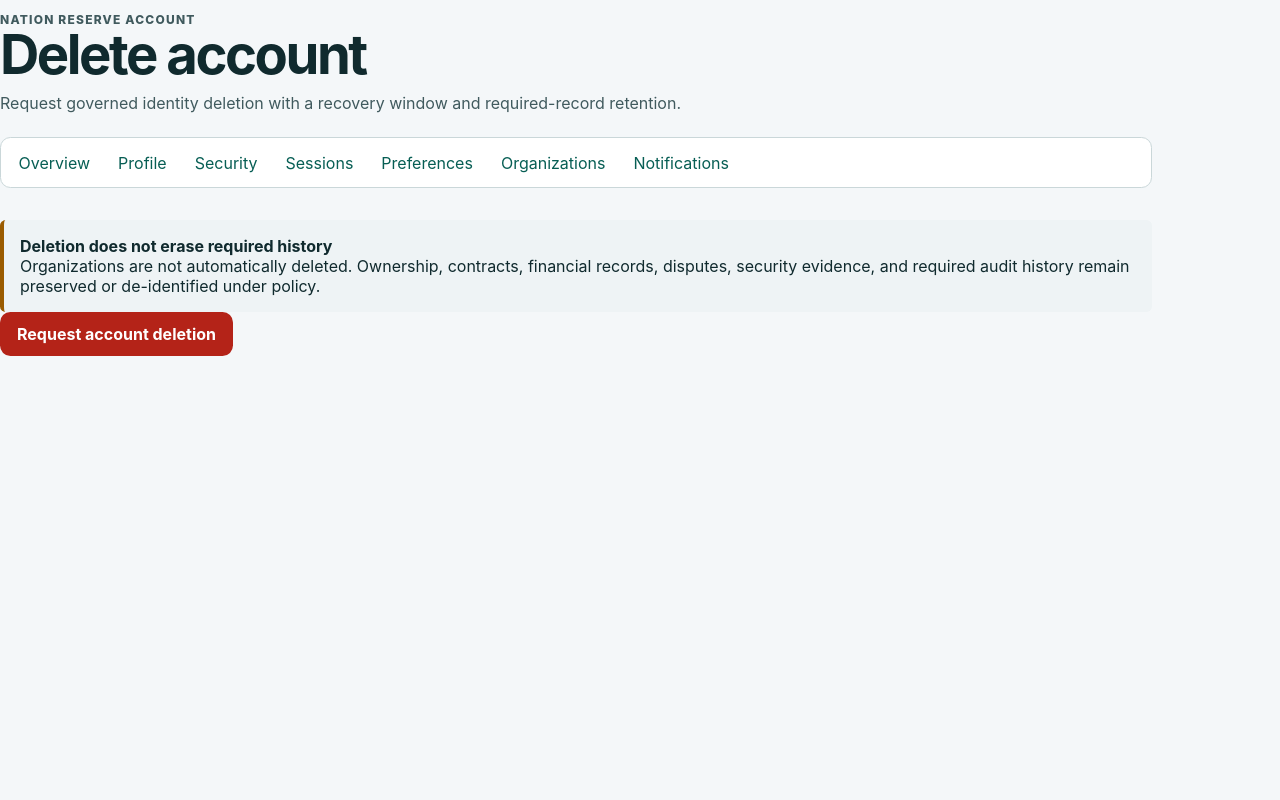
Prompt 014 shared account UI › warns before account deletion without pretending to delete
What coordinates should you click on to do the following:
click the button "Request account deletion"
I would click on:
 (116, 334)
Its box is [0,312,233,356].
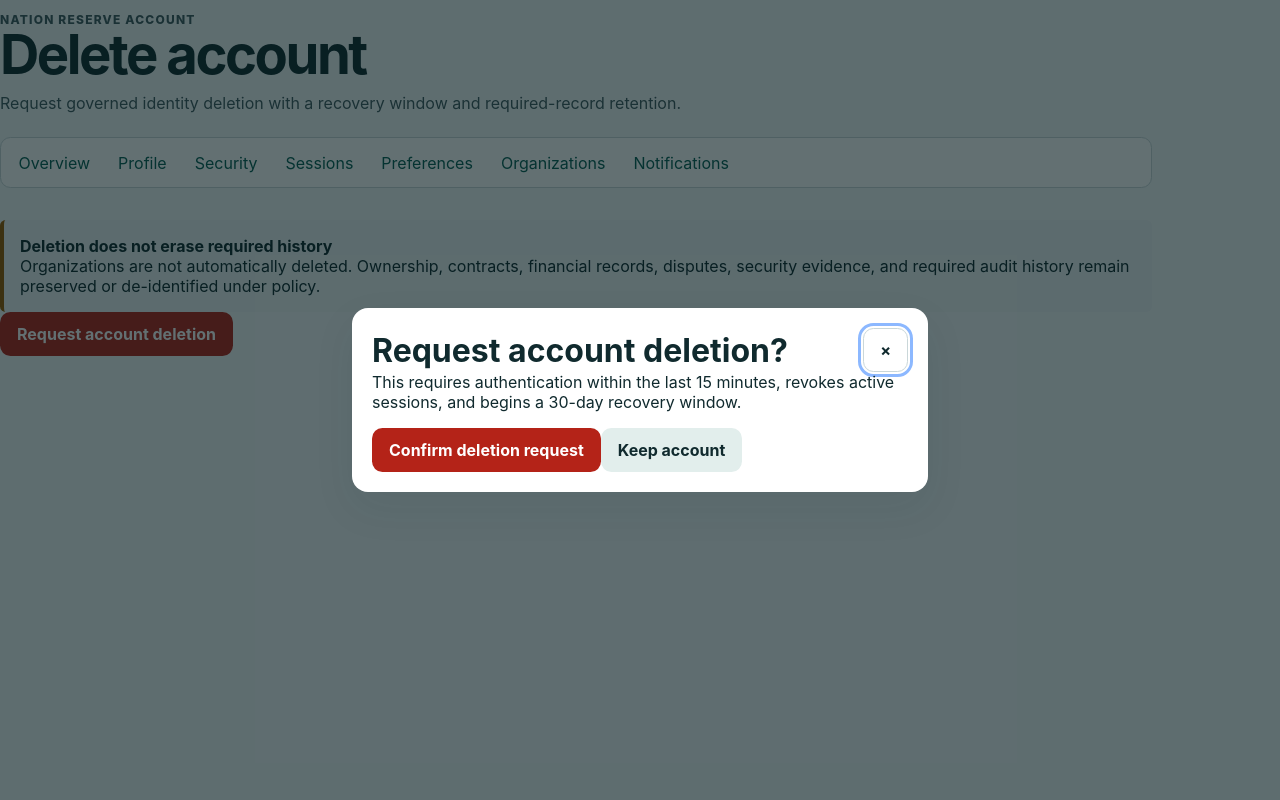
expect the dialog "Request account deletion?" is shown: met, box [352,308,928,492]
expect the text "30-day recovery window" is shown: met, box [372,372,894,412]
